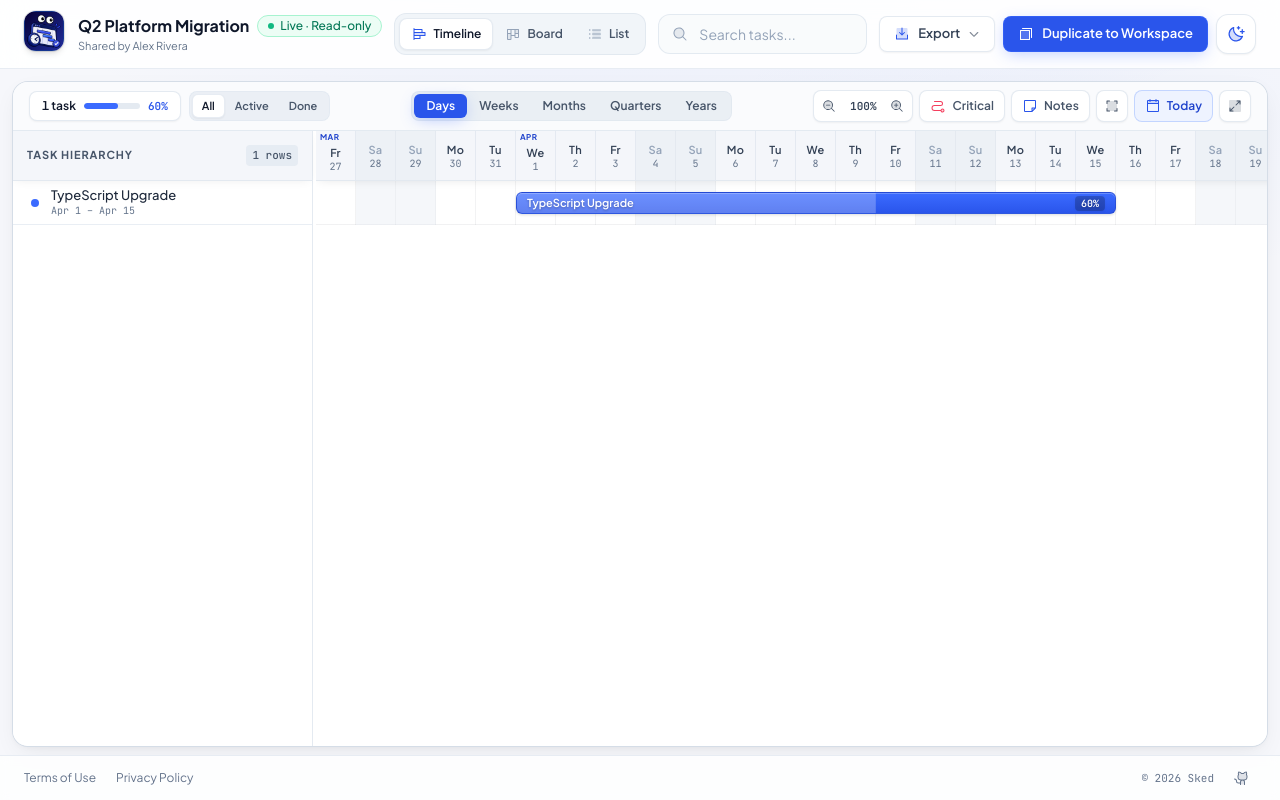
Test case: SharedChartPage (/share/:shareId) › renders a live public chart for anonymous viewers without requiring sign-in
Check: the heading "Q2 Platform Migration" is shown, box 78,14 -> 249,38
Check: the text "Shared by Alex Rivera" is shown, box 78,39 -> 188,52
// Public viewer can switch cleanly to Board and List views in read-only mode
Click the tab "Board": (534, 34) 494,18 -> 575,50
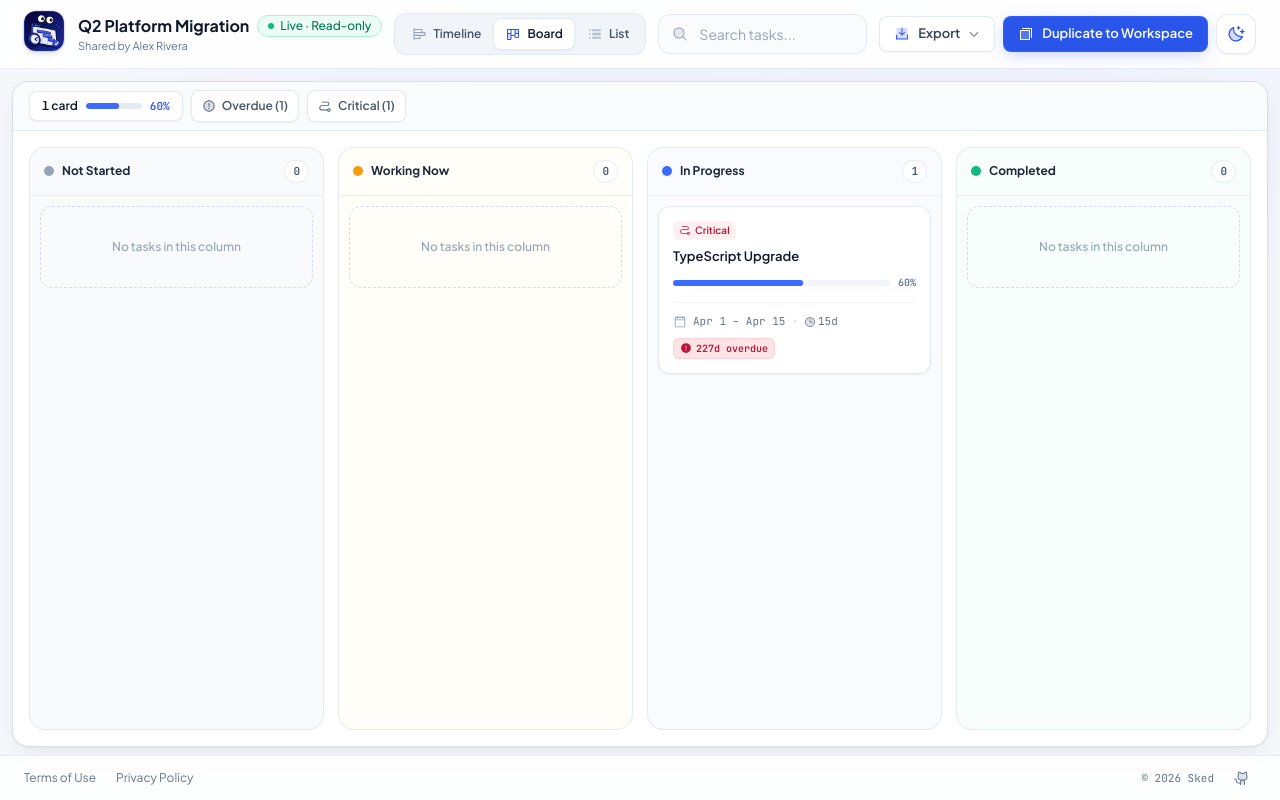
Check: the button with test id "board-card-1" is shown, box 658,206 -> 931,374
Click the tab "List": (608, 34) 575,18 -> 641,50
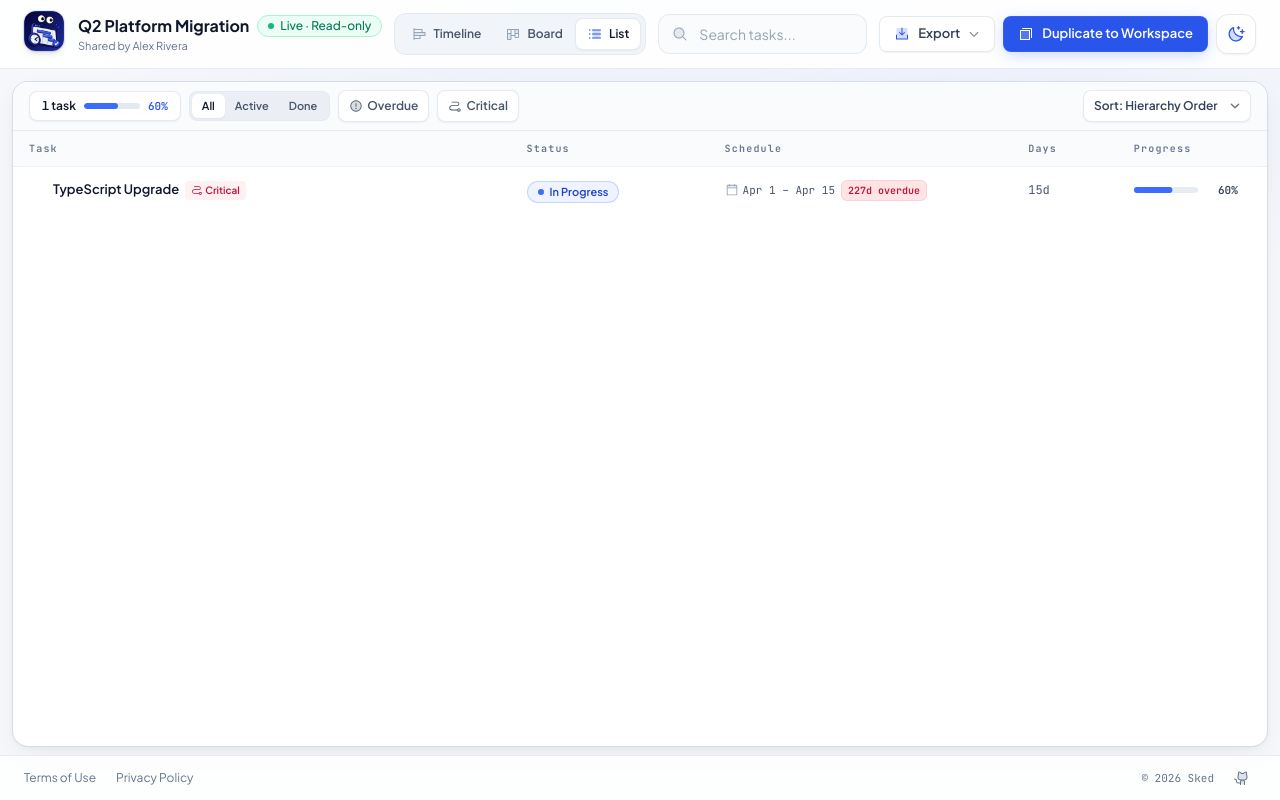
Check: the row with test id "list-row-1" is shown, box 13,166 -> 1267,213
